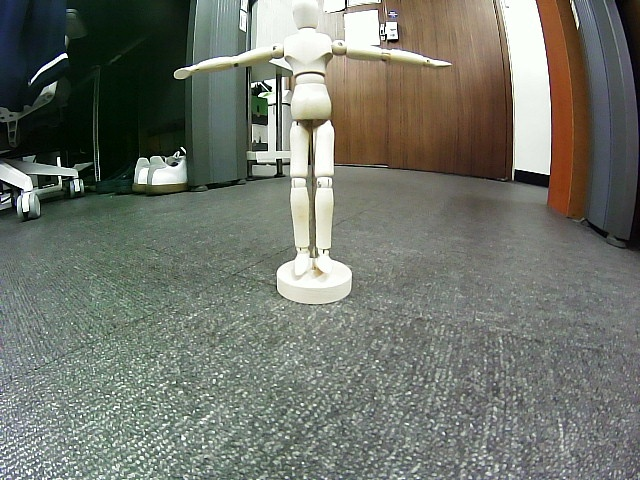person: (173, 1, 453, 276)
